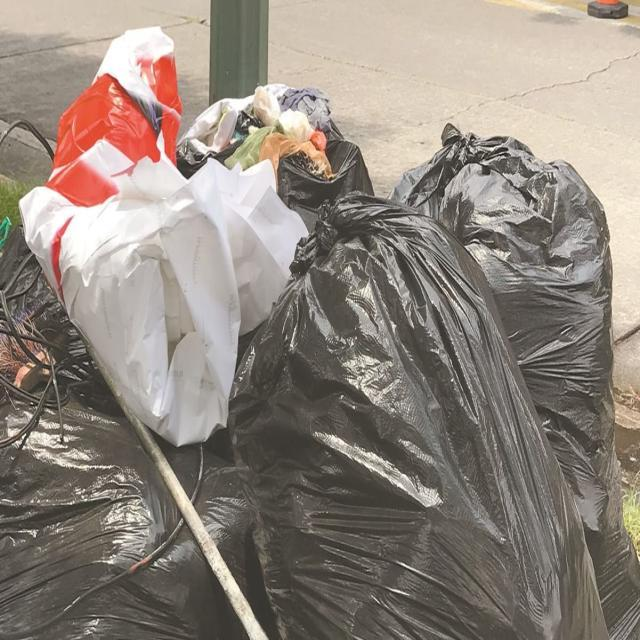Trashbag: (212, 210, 565, 640), (2, 385, 223, 640), (385, 109, 603, 222)
